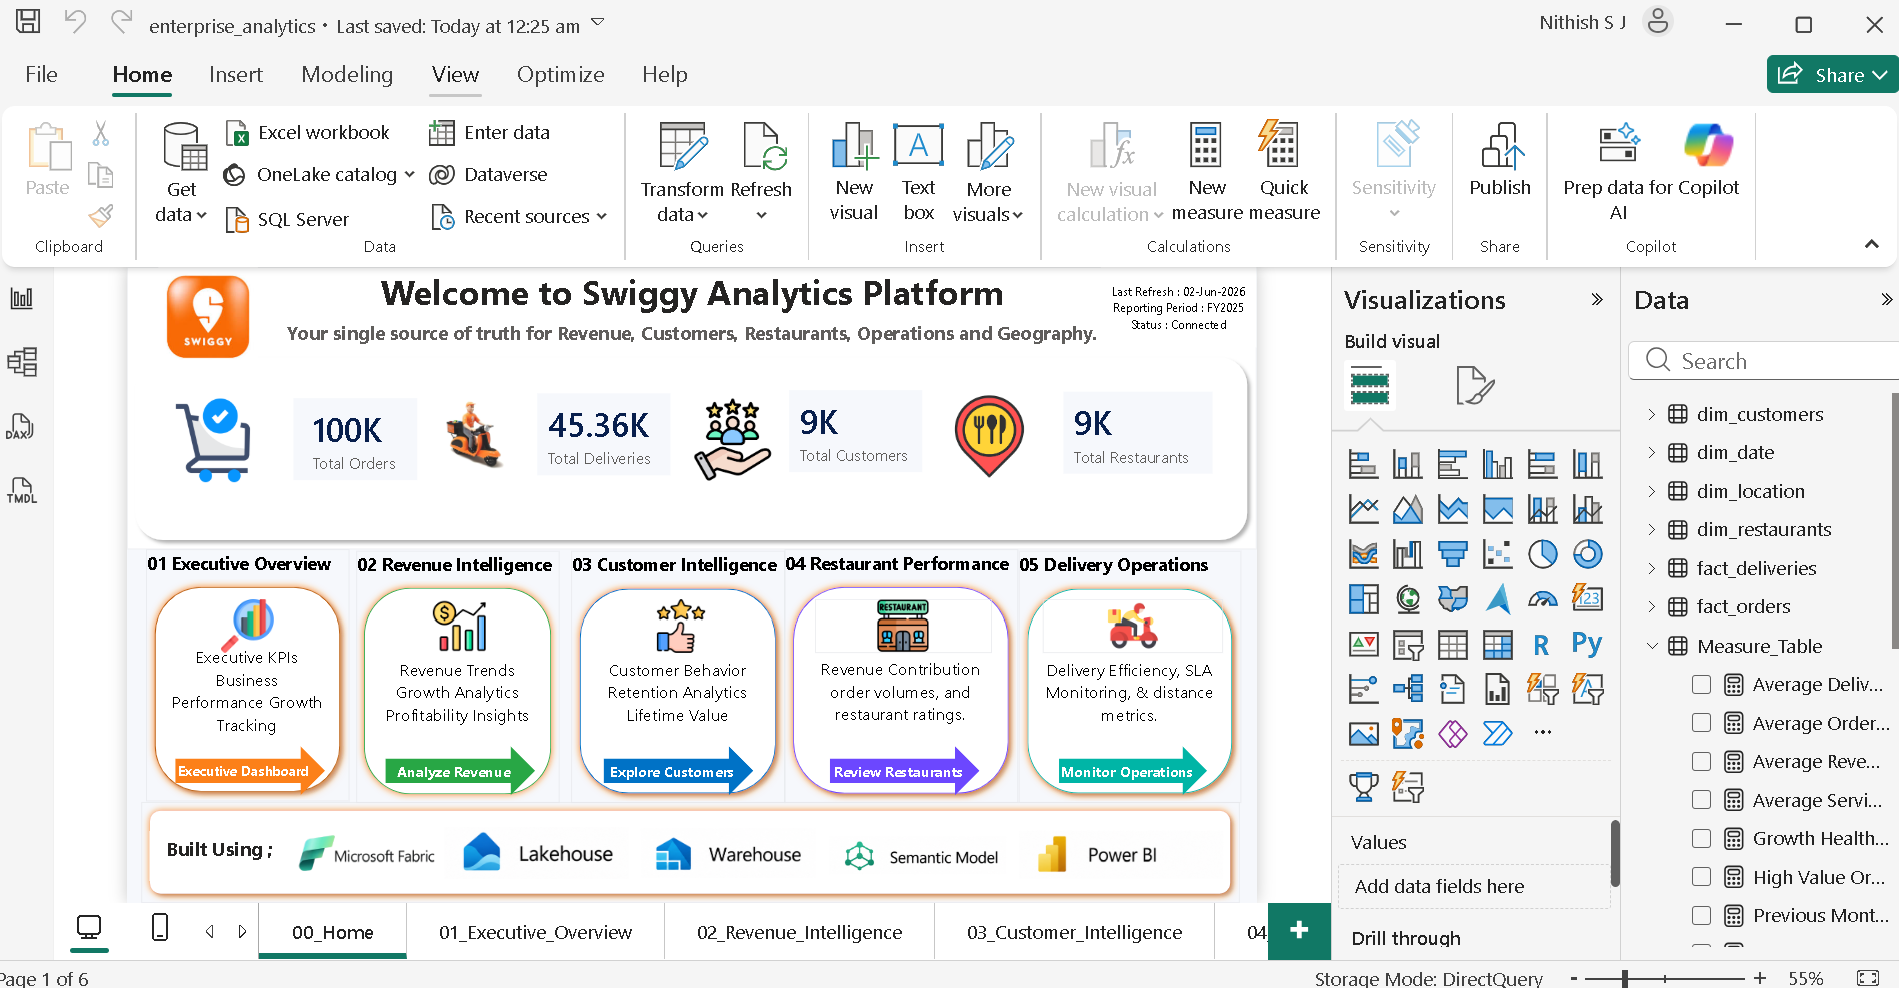

The dashboard page shown, as its layout file describes it:
{"tool":"powerbi","page":{"name":"00_Home","canvas":[1280,720],"ordinal":0},"visuals":[{"type":"shape","title":"SWIGGY ENTERPRISE ANALYTICS PLATFORM","box":[0,0,1279.5,319.9],"z":0},{"type":"image","box":[10.9,149,172.7,94.5],"z":1000},{"type":"image","box":[328.8,148.2,131.9,99.5],"z":2000},{"type":"image","box":[621.1,148.2,121.8,99.5],"z":3000},{"type":"image","box":[905.2,148.2,131.9,99.5],"z":4000},{"type":"shape","title":"01  Executive Overview","box":[0,323.2,208.1,280.8],"z":5000},{"type":"shape","box":[14.5,541.6,181.8,56.3],"z":6000},{"type":"image","box":[52.5,400,101,40.4],"z":7000},{"type":"shape","title":"02 Revenue Intelligence","box":[222.2,323.2,206,284.8],"z":8000},{"type":"shape","box":[239.9,541.6,169,56.3],"z":9000},{"type":"shape","title":"03 Customer Intelligence","box":[428.3,323.2,224.2,280.8],"z":10000},{"type":"shape","box":[448.5,541.4,171.7,56.6],"z":11000},{"type":"shape","title":"04  Restaurant Performance","box":[652.5,323.2,208.1,282.8],"z":12000},{"type":"shape","box":[672.7,541.4,169.7,56.6],"z":13000},{"type":"shape","title":"05 Delivery Operations","box":[860.6,323.2,206,280.8],"z":14000},{"type":"shape","box":[878.7,541.4,187.9,56.6],"z":15000},{"type":"shape","title":"Built using:","box":[16,606,1244,114],"z":16000},{"type":"image","box":[262.6,402,125.2,46.5],"z":17000},{"type":"image","box":[474.7,402,131.3,42.4],"z":18000},{"type":"image","box":[148,618,248,86],"z":19000},{"type":"textbox","box":[26,638,158,56],"z":20000},{"type":"image","box":[666.6,400,175.7,42.4],"z":21000},{"type":"image","box":[360,628,208,68],"z":22000},{"type":"image","box":[582,628,198,68],"z":23000},{"type":"image","box":[796,630,200,70],"z":24000},{"type":"image","box":[1010,622,232,86],"z":25000},{"type":"image","box":[878.7,400,157.6,44.4],"z":26000},{"type":"cardVisual","fields":{"Data":["Measure_Table.Total Orders"]},"box":[183.6,143.6,150.9,103.6],"z":27000},{"type":"cardVisual","fields":{"Data":["fact_deliveries.Total Deliveries"]},"box":[464.8,148.2,160.3,103.5],"z":28000},{"type":"cardVisual","fields":{"Data":["dim_customers.Total Customers"]},"box":[742.9,148.2,162.4,103.5],"z":29000},{"type":"cardVisual","fields":{"Data":["dim_restaurants.Total Restaurants"]},"box":[1043.3,148.2,180.6,103.5],"z":30000},{"type":"image","box":[0,0,183.6,61.8],"z":31000},{"type":"shape","title":"06 Geographic Insights","box":[1072.7,323.2,206,282.8],"z":31001},{"type":"shape","box":[1092.3,541.6,167.2,56.3],"z":31002}]}

Visuals, with their boxes on the page's 1280x720 design canvas (x1, y1, x2, y2). These are canvas units, not pixel positions in the 1899x988 screenshot, which may show the page scaled, cropped or inside an application window:
"SWIGGY ENTERPRISE ANALYTICS PLATFORM" shape: [left=0, top=0, right=1280, bottom=320]
image: [left=11, top=149, right=184, bottom=244]
image: [left=329, top=148, right=461, bottom=248]
image: [left=621, top=148, right=743, bottom=248]
image: [left=905, top=148, right=1037, bottom=248]
"01  Executive Overview" shape: [left=0, top=323, right=208, bottom=604]
shape: [left=14, top=542, right=196, bottom=598]
image: [left=52, top=400, right=154, bottom=440]
"02 Revenue Intelligence" shape: [left=222, top=323, right=428, bottom=608]
shape: [left=240, top=542, right=409, bottom=598]
"03 Customer Intelligence" shape: [left=428, top=323, right=652, bottom=604]
shape: [left=448, top=541, right=620, bottom=598]
"04  Restaurant Performance" shape: [left=652, top=323, right=861, bottom=606]
shape: [left=673, top=541, right=842, bottom=598]
"05 Delivery Operations" shape: [left=861, top=323, right=1067, bottom=604]
shape: [left=879, top=541, right=1067, bottom=598]
"Built using:" shape: [left=16, top=606, right=1260, bottom=720]
image: [left=263, top=402, right=388, bottom=448]
image: [left=475, top=402, right=606, bottom=444]
image: [left=148, top=618, right=396, bottom=704]
textbox: [left=26, top=638, right=184, bottom=694]
image: [left=667, top=400, right=842, bottom=442]
image: [left=360, top=628, right=568, bottom=696]
image: [left=582, top=628, right=780, bottom=696]
image: [left=796, top=630, right=996, bottom=700]
image: [left=1010, top=622, right=1242, bottom=708]
image: [left=879, top=400, right=1036, bottom=444]
cardVisual - Measure_Table.Total Orders: [left=184, top=144, right=334, bottom=247]
cardVisual - fact_deliveries.Total Deliveries: [left=465, top=148, right=625, bottom=252]
cardVisual - dim_customers.Total Customers: [left=743, top=148, right=905, bottom=252]
cardVisual - dim_restaurants.Total Restaurants: [left=1043, top=148, right=1224, bottom=252]
image: [left=0, top=0, right=184, bottom=62]
"06 Geographic Insights" shape: [left=1073, top=323, right=1279, bottom=606]
shape: [left=1092, top=542, right=1260, bottom=598]
